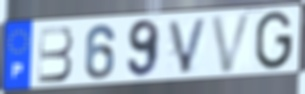6: (83, 22, 117, 81)
9: (126, 17, 163, 81)
B: (37, 24, 75, 85)
G: (253, 9, 295, 72)
V: (208, 11, 255, 76), (166, 16, 210, 76)
